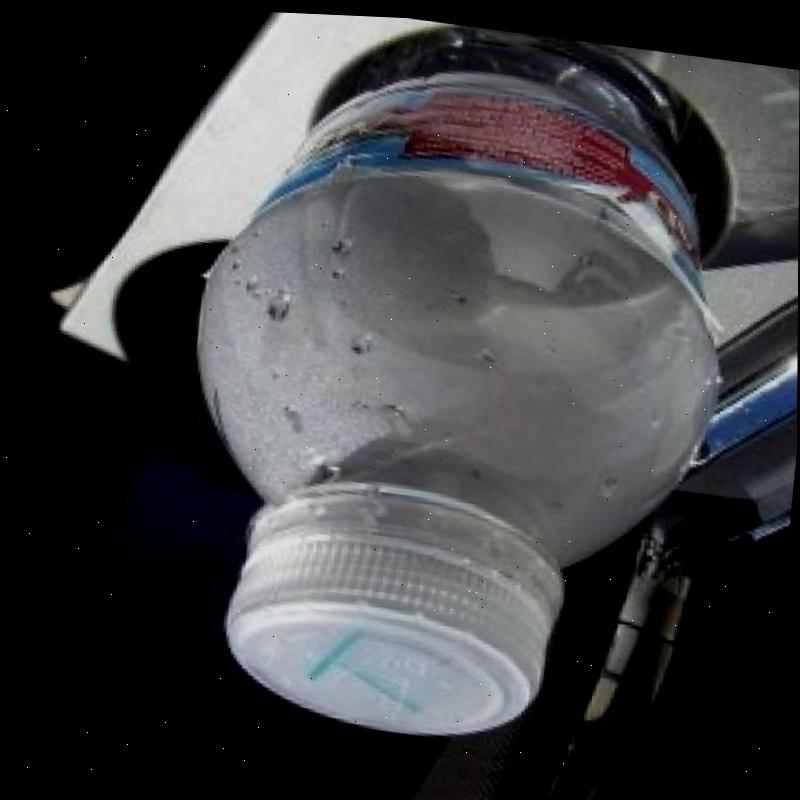botella: (159, 6, 747, 771)
